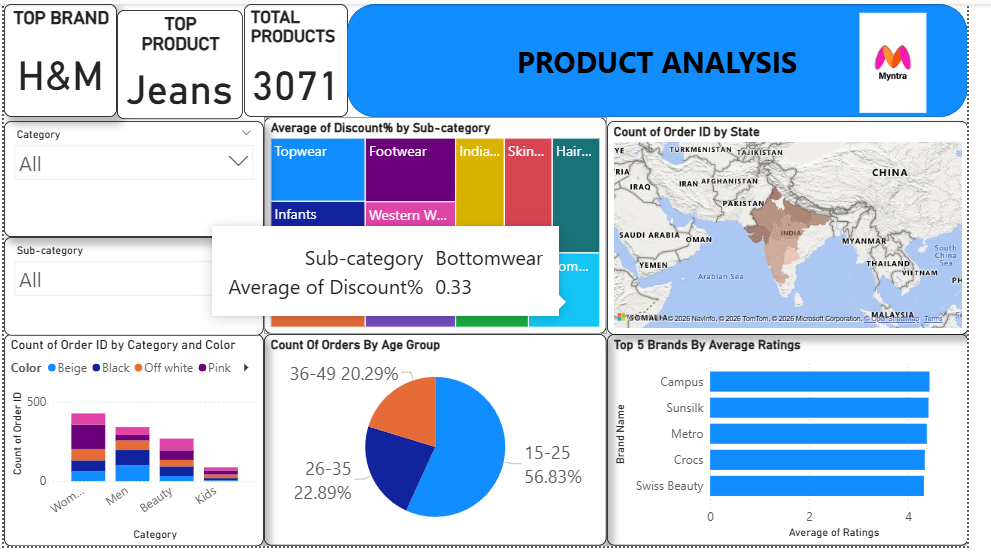

The dashboard page shown, as its layout file describes it:
{"tool":"powerbi","page":{"name":"Product Analysis","canvas":[1280,720],"ordinal":1},"visuals":[{"type":"barChart","title":"Top 5 Brands By Average Ratings","fields":{"Category":["Products myntra.Brand Name"],"Y":["Avg(Products myntra.Ratings)"]},"box":[800.5,439,480,281],"z":0},{"type":"pieChart","title":"Count Of Orders By Age Group","fields":{"Category":["customers myntra.Age Group"],"Y":["CountNonNull(orders myntra.Order ID)"]},"box":[345.4,439,455.1,281],"z":1000},{"type":"filledMap","fields":{"Category":["customers myntra.State"]},"box":[800.5,155.1,480,283.9],"z":2000},{"type":"treemap","fields":{"Group":["Products myntra.Sub-category"],"Values":["Avg(orders myntra.Discount%)"]},"box":[345.4,150.7,455.1,288.3],"z":3000},{"type":"columnChart","fields":{"Y":["CountNonNull(orders myntra.Order ID)"],"Series":["Products myntra.Color"],"Category":["Products myntra.Category"]},"box":[0,438,345,282.5],"z":4000},{"type":"slicer","fields":{"Values":["Products myntra.Sub-category"]},"box":[0,309.3,345,130.5],"z":5000},{"type":"slicer","fields":{"Values":["Products myntra.Category"]},"box":[0,155.5,345,153.7],"z":6000},{"type":"card","title":"TOP BRAND","fields":{"Values":["Min(Products myntra.Brand Name)"]},"box":[0,0,150.2,150.2],"z":7000},{"type":"card","title":"TOP PRODUCT","fields":{"Values":["Min(Products myntra.Product Name)"]},"box":[150.7,7.3,166.8,144.9],"z":8000},{"type":"card","title":"TOTAL PRODUCTS","fields":{"Values":["CountNonNull(Products myntra.Product ID)"]},"box":[318.2,0,137.7,150.2],"z":9000},{"type":"shape","box":[455.9,0,824.1,150.2],"z":10000},{"type":"image","box":[1081.6,7.2,198.4,143],"z":11000}]}

Visuals, with their boxes in screenshot pixels (x1, y1, x2, y2), scaled from the page's 1280x720 canvas onto the 991x552 screenshot:
"Top 5 Brands By Average Ratings" barChart: {"x1": 620, "y1": 337, "x2": 990, "y2": 551}
"Count Of Orders By Age Group" pieChart: {"x1": 267, "y1": 337, "x2": 620, "y2": 551}
filledMap - customers myntra.State: {"x1": 620, "y1": 119, "x2": 990, "y2": 337}
treemap - Products myntra.Sub-category x Avg(orders myntra.Discount%): {"x1": 267, "y1": 116, "x2": 620, "y2": 337}
columnChart - CountNonNull(orders myntra.Order ID) x Products myntra.Color: {"x1": 0, "y1": 336, "x2": 267, "y2": 551}
slicer - Products myntra.Sub-category: {"x1": 0, "y1": 237, "x2": 267, "y2": 337}
slicer - Products myntra.Category: {"x1": 0, "y1": 119, "x2": 267, "y2": 237}
"TOP BRAND" card: {"x1": 0, "y1": 0, "x2": 116, "y2": 115}
"TOP PRODUCT" card: {"x1": 117, "y1": 6, "x2": 246, "y2": 117}
"TOTAL PRODUCTS" card: {"x1": 246, "y1": 0, "x2": 353, "y2": 115}
shape: {"x1": 353, "y1": 0, "x2": 990, "y2": 115}
image: {"x1": 837, "y1": 6, "x2": 990, "y2": 115}
